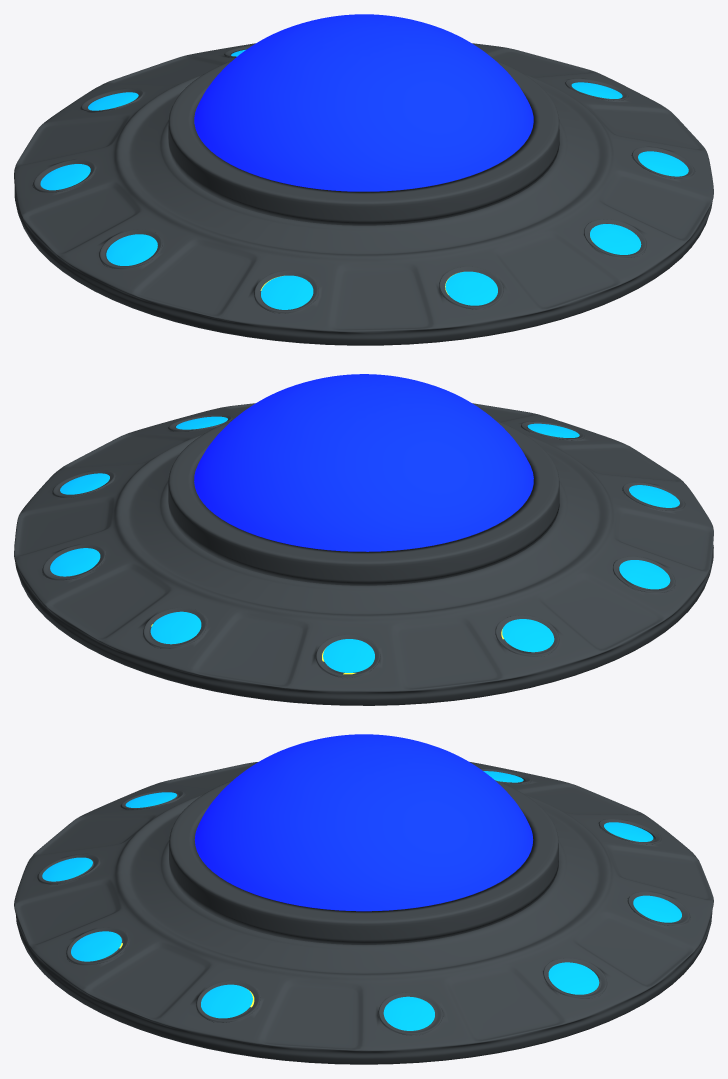
Rendered from classic_sci-fi_flying_saucer_ufo.glb.
3 views of the same model, one above another, from view 1: azimuth 30°, elevation 25°; view 2: azimuth 150°, elevation 25°; view 3: azimuth 270°, elevation 25° (orthographic).
Visible parts, largest first — view 1: ufo_mesh; view 2: ufo_mesh; view 3: ufo_mesh.
Boxes of the visible parts, x1=… form: ufo_mesh: x1=14, y1=14, x2=713, y2=345; ufo_mesh: x1=14, y1=374, x2=713, y2=705; ufo_mesh: x1=14, y1=734, x2=713, y2=1064.
Size of what is drawn, in the model's own units: 10 by 3.2 by 10.
